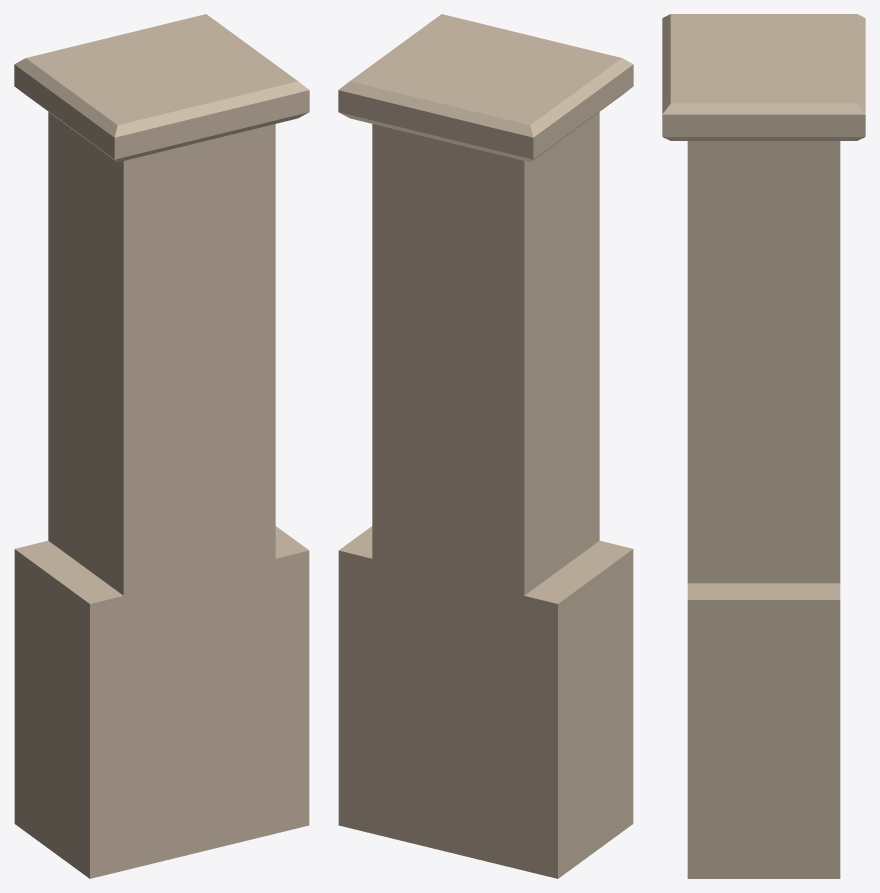
File: Stone Pillar 1.fbx
3 views of the same model, side by side, from view 1: azimuth 30°, elevation 25°; view 2: azimuth 150°, elevation 25°; view 3: azimuth 270°, elevation 25° (orthographic).
Parts seen in each view (by area): view 1: Stone Pillar 1; view 2: Stone Pillar 1; view 3: Stone Pillar 1.
Part boxes in pixels (x1,y1,x2,y2): Stone Pillar 1: (14, 14, 309, 878); Stone Pillar 1: (338, 14, 633, 878); Stone Pillar 1: (662, 14, 865, 878).
Bounding box in the file's own units: 0.6895 × 0.5456 × 2.27.
